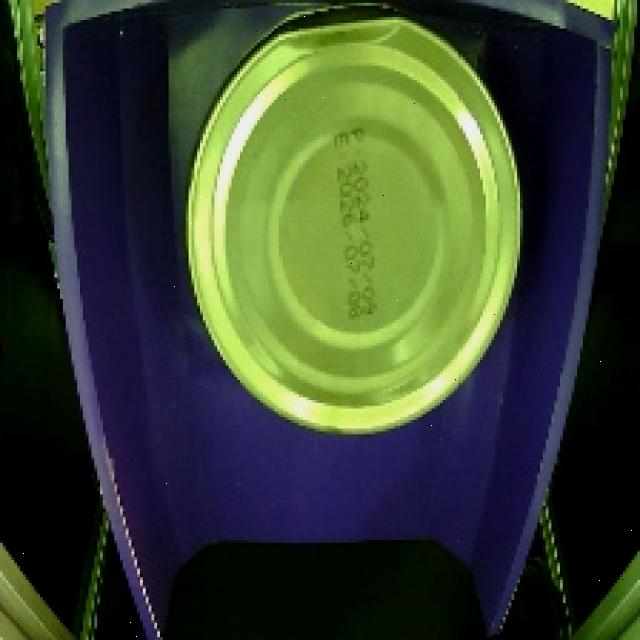metal: (169, 0, 543, 455)
